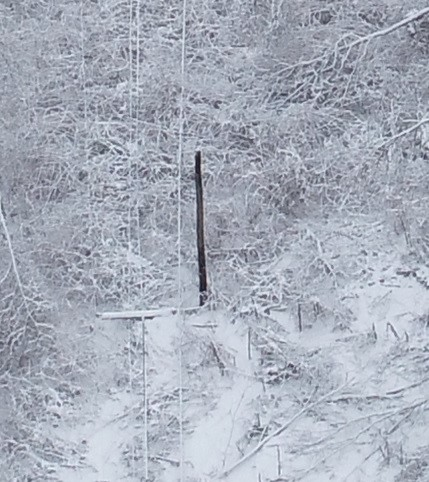pole: (183, 148, 231, 313)
